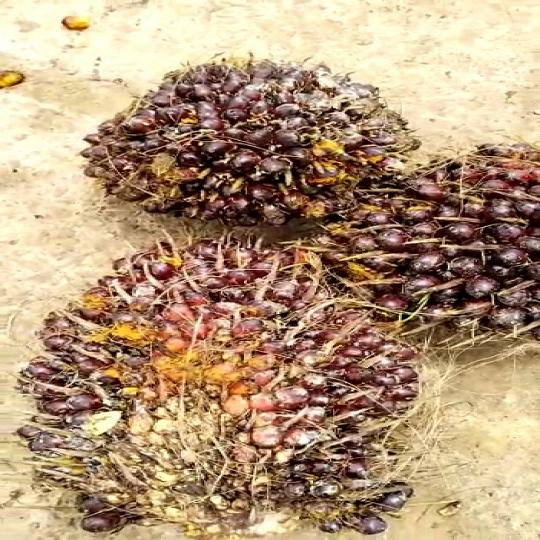kurang masak: (35, 226, 400, 540), (84, 63, 409, 248), (317, 142, 540, 350)
